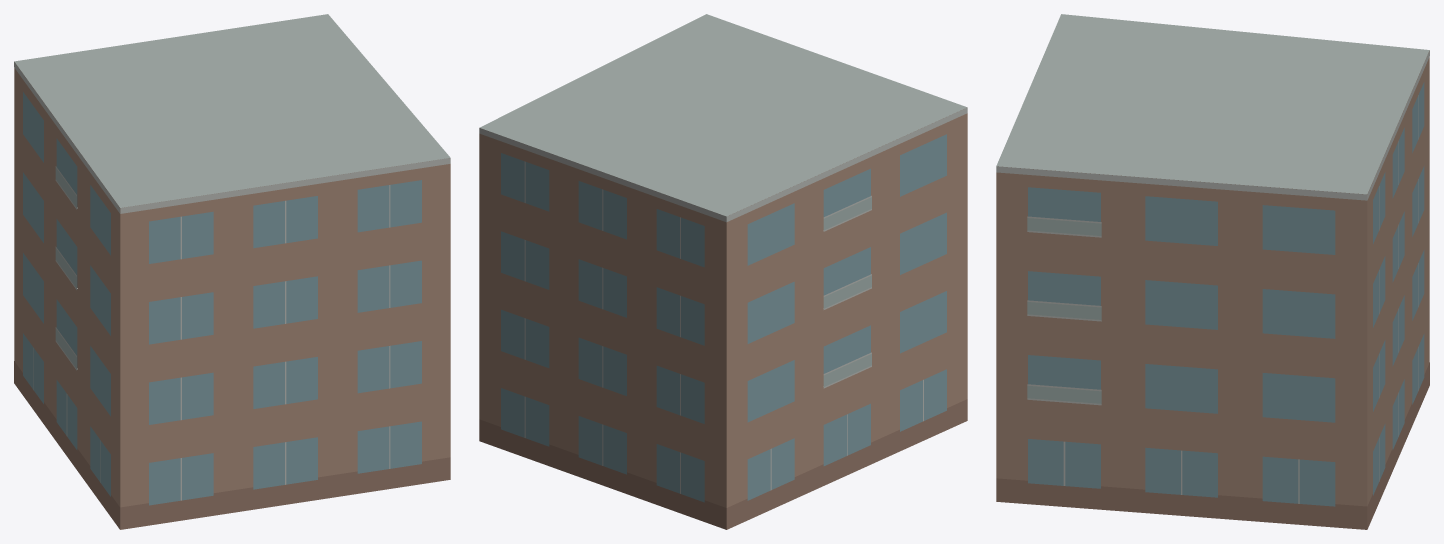
File: survey-upis-32827361.glb
3 views of the same model, side by side, from view 1: azimuth 30°, elevation 25°; view 2: azimuth 150°, elevation 25°; view 3: azimuth 270°, elevation 25° (orthographic). The views are drawn at different scales.
Parts seen in each view (by area): view 1: survey-upis-32827361.tmp; view 2: survey-upis-32827361.tmp; view 3: survey-upis-32827361.tmp.
Boxes of the visible parts, <box> form: survey-upis-32827361.tmp: <box>14,14,450,529</box>; survey-upis-32827361.tmp: <box>479,14,967,529</box>; survey-upis-32827361.tmp: <box>996,14,1429,529</box>.
Size of the model in its own units: 15.23 by 13.2 by 15.47.
